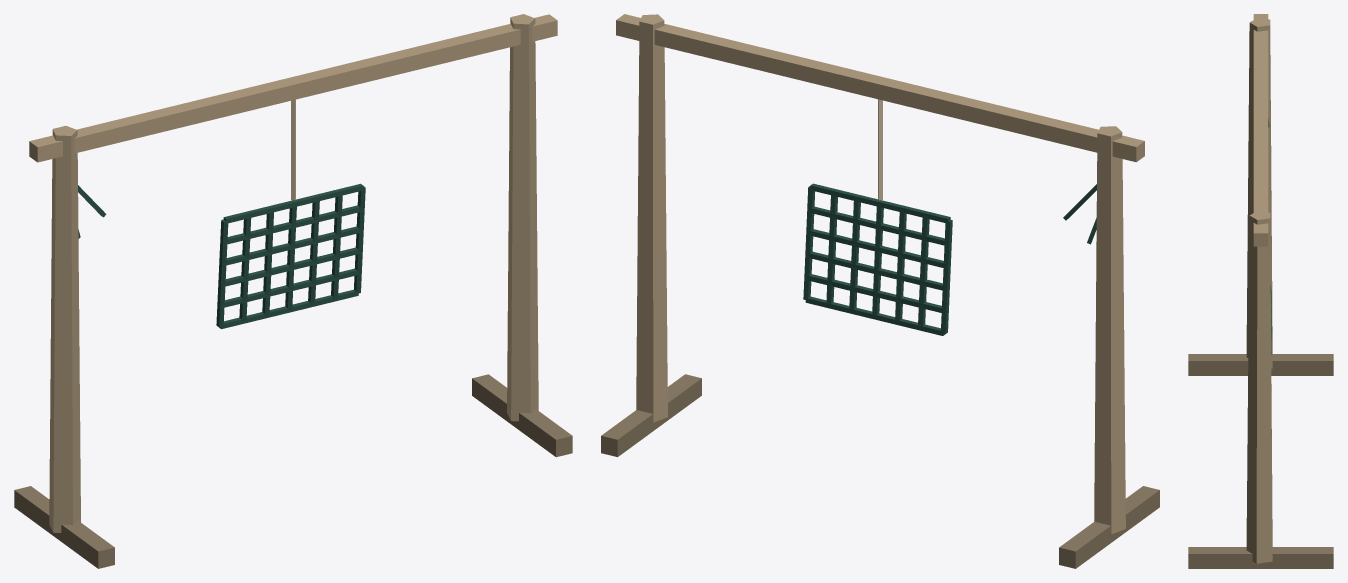
File: net_frame_pine.glb
3 renders of one model, left to right at view 1: azimuth 30°, elevation 25°; view 2: azimuth 150°, elevation 25°; view 3: azimuth 270°, elevation 25°, orthographic. The views are drawn at different scales.
Visible parts, largest first — view 1: driftwood_d10, pine_d10, driftwood_d30; view 2: driftwood_d10, pine_d10, driftwood_d30; view 3: driftwood_d10, driftwood_d30.
Part boxes in pixels (<box>): driftwood_d10: <box>29,14,557,532</box>; pine_d10: <box>78,183,365,329</box>; driftwood_d30: <box>14,374,572,568</box>; driftwood_d10: <box>616,14,1144,534</box>; pine_d10: <box>803,183,1096,335</box>; driftwood_d30: <box>601,374,1159,568</box>; driftwood_d10: <box>1246,14,1272,563</box>; driftwood_d30: <box>1188,354,1333,568</box>.
Bounding box in the file's own units: 2.5 × 1.86 × 0.7.
